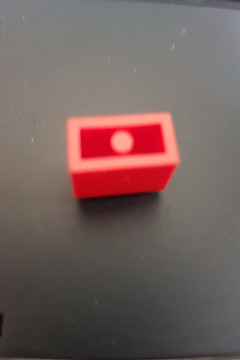1x2 red: (62, 112, 180, 200)
